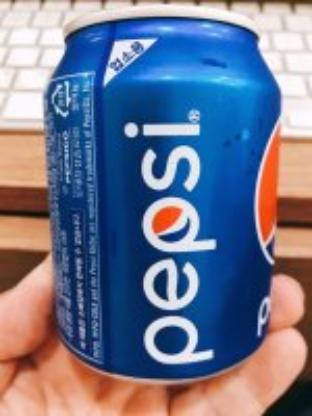Can: (42, 9, 284, 385)
